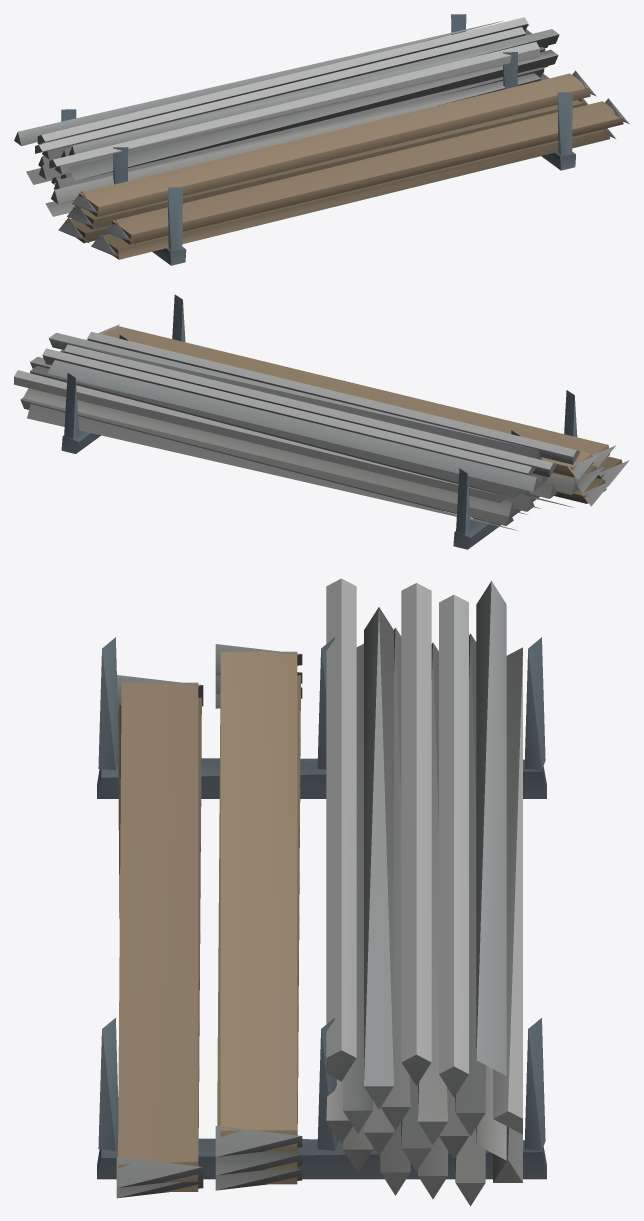
The model's file is scafstack.lod1.glb.
3 views of the same model, one above another, from view 1: azimuth 30°, elevation 25°; view 2: azimuth 150°, elevation 25°; view 3: azimuth 270°, elevation 25° (orthographic). The views are drawn at different scales.
Size of the model in its own units: 4.04 by 0.554 by 1.5.
